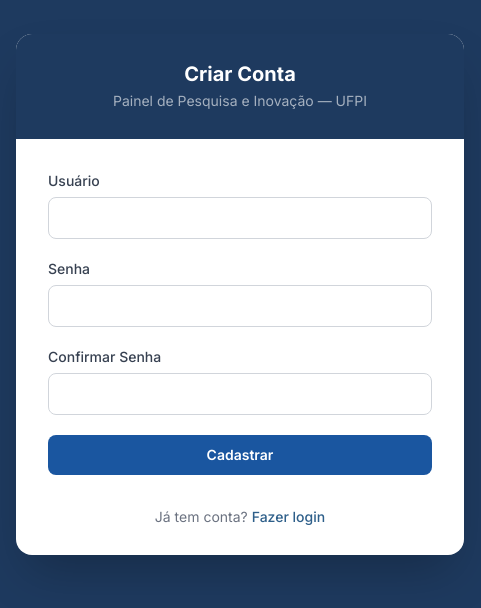
Cadastro › exibe erro quando username tem menos de 3 caracteres
The image size is (481, 608).
Type "ab" into the field labelled "Usuário". click: (240,218)
box: x1=48 y1=196 x2=432 y2=238
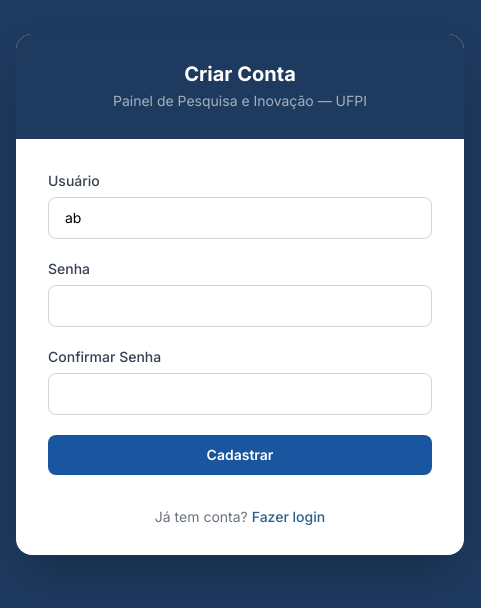
Type "senha123" into the password field labelled "Senha". click: (240,306)
box: x1=48 y1=284 x2=432 y2=326
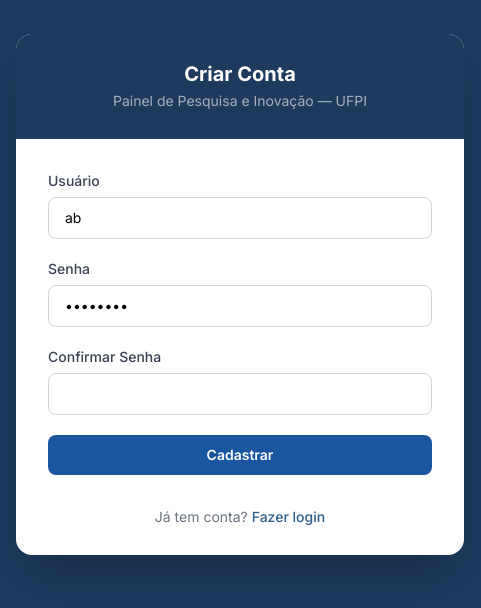
Type "senha123" into the password field labelled "Confirmar Senha". click: (240,394)
box: x1=48 y1=372 x2=432 y2=414
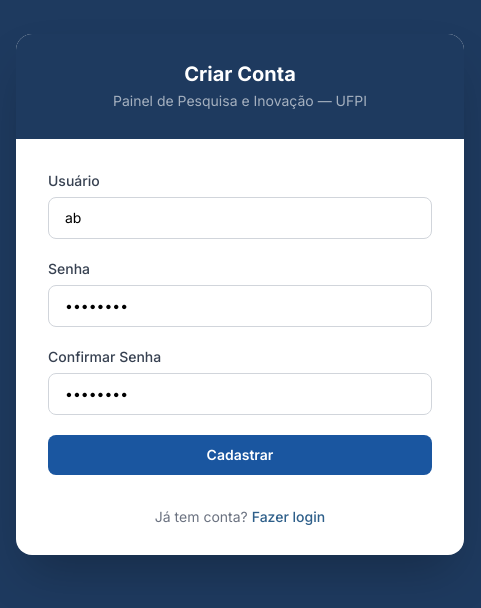
Click the button "Cadastrar". click: (240,454)
box: x1=48 y1=434 x2=432 y2=474
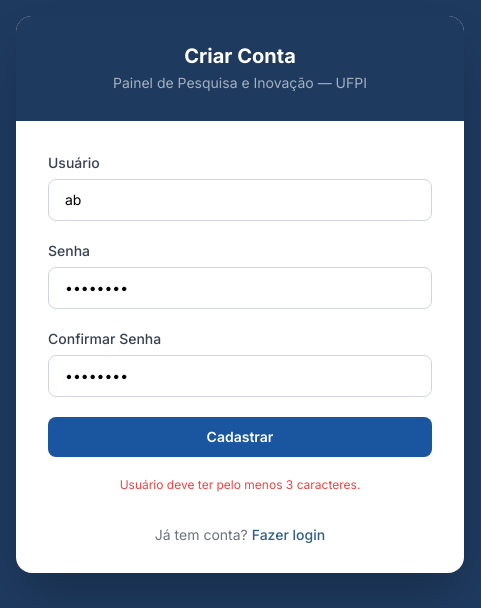
Expected: the text "Usuário deve ter pelo menos 3 caracteres." is shown, x1=120 y1=476 x2=360 y2=492
